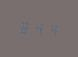eight: (18, 18, 30, 36)
four: (32, 19, 44, 37), (45, 20, 57, 38)
